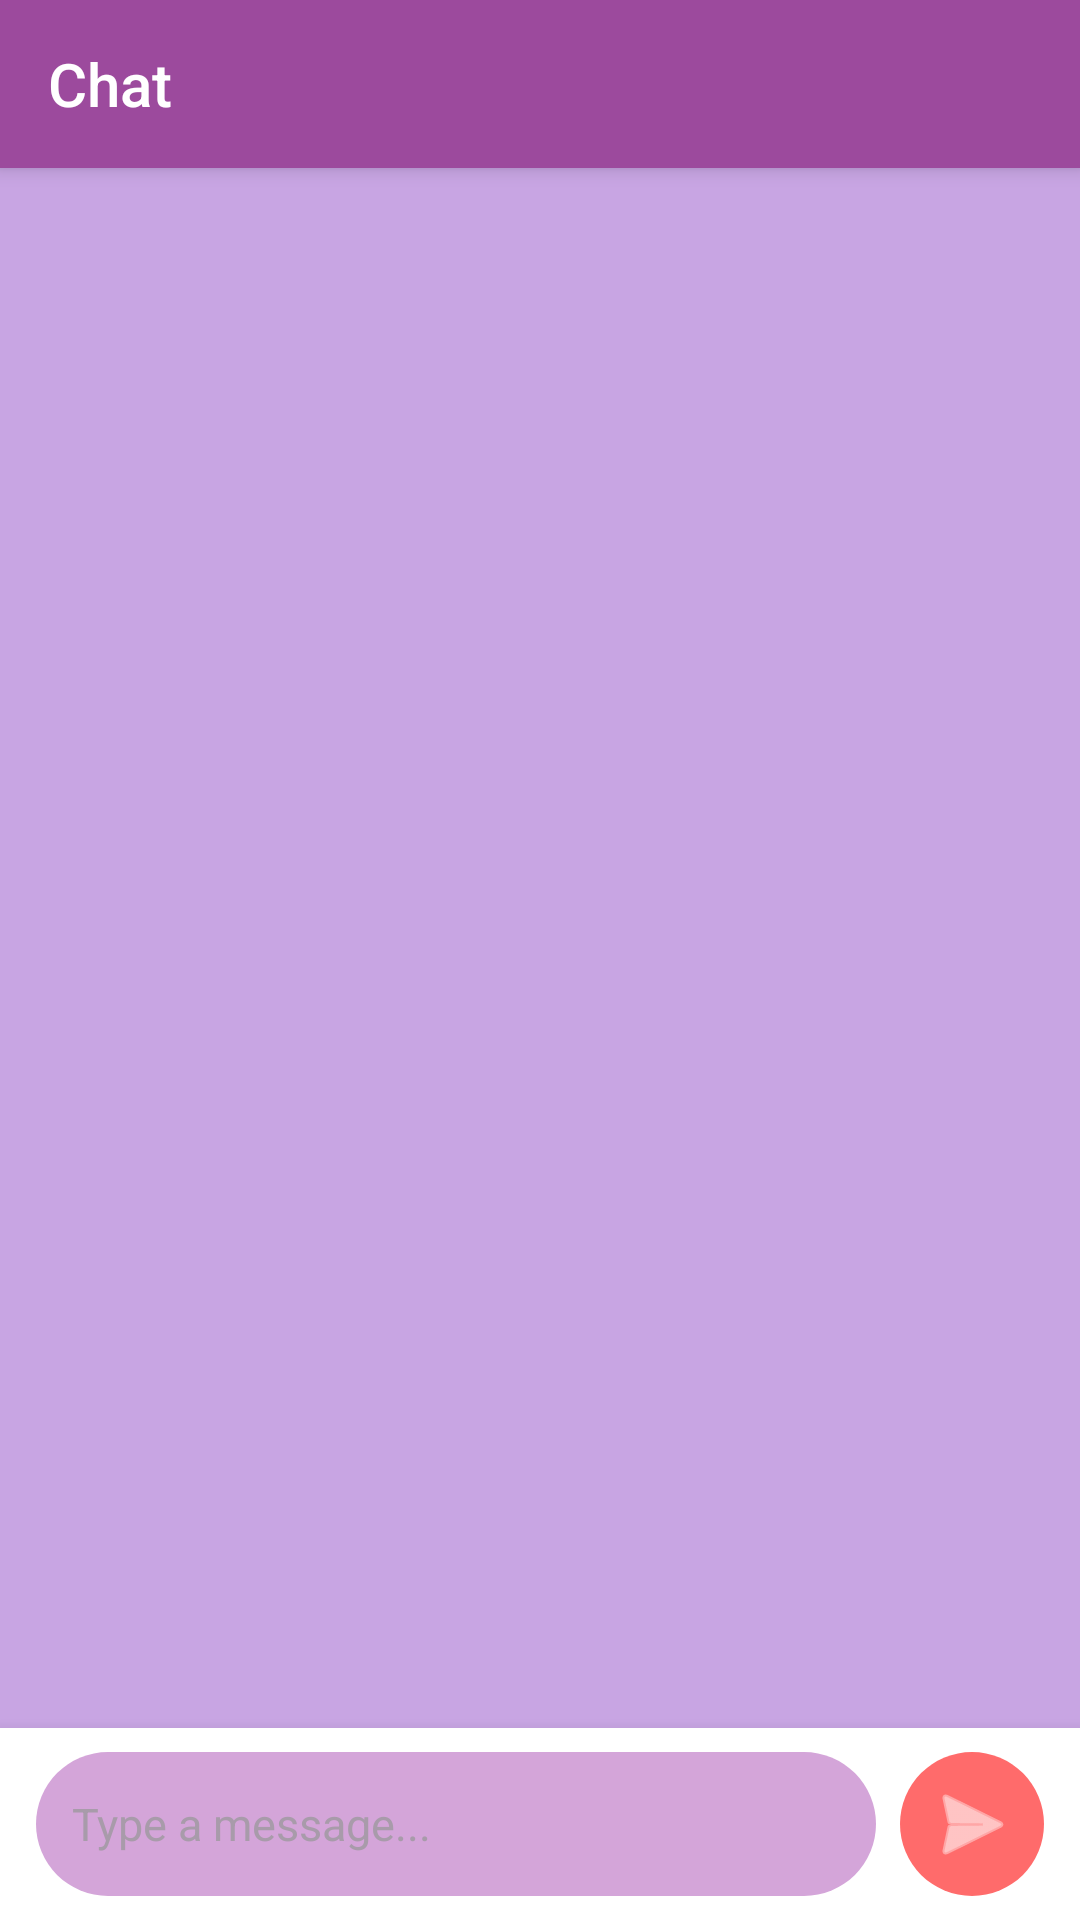

Point at icon controls on the screen. Image size 1080w x 1920h, points as [x,y].
Send message: [972,1824]
